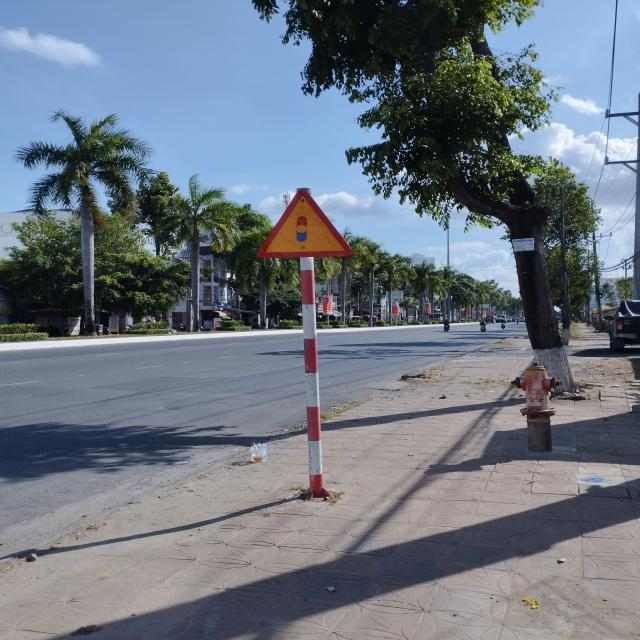Duong_Co_Go_Giam_Toc: (254, 188, 355, 259)
